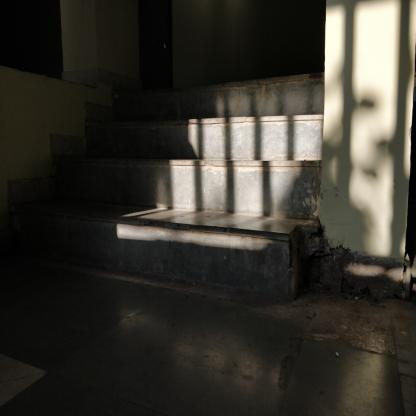stairs: (126, 88, 285, 300)
